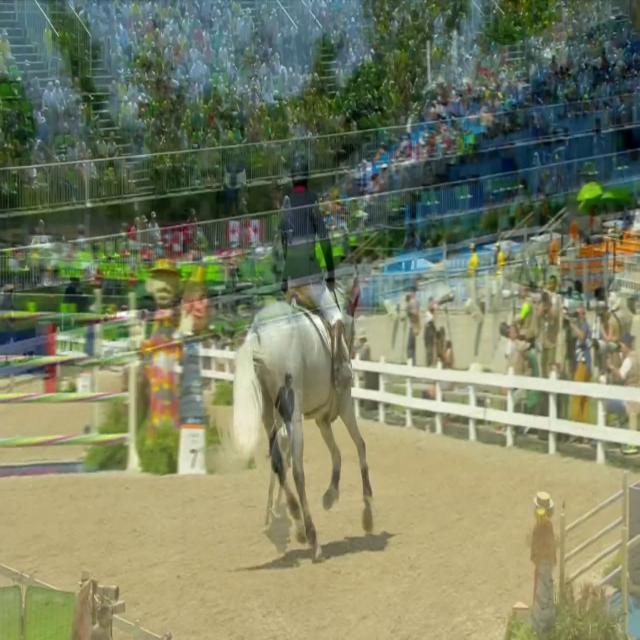Horse Rider: (267, 133, 355, 385)
Horse Running: (235, 263, 397, 563)
